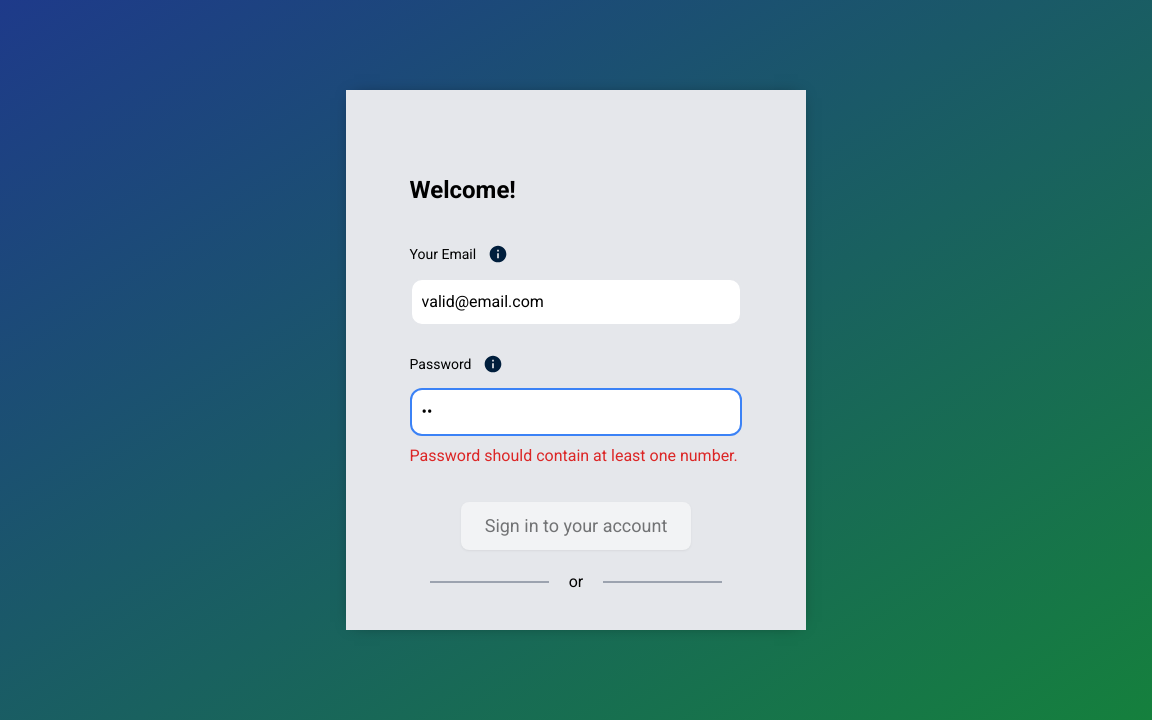
Scenario: React Social App › Login Page › Password Input › Add number to the input, it should return special character validation error
This screenshot has width=1152, height=720.
Type "1" into the password field. click: (577, 412)
box: [410, 388, 743, 436]
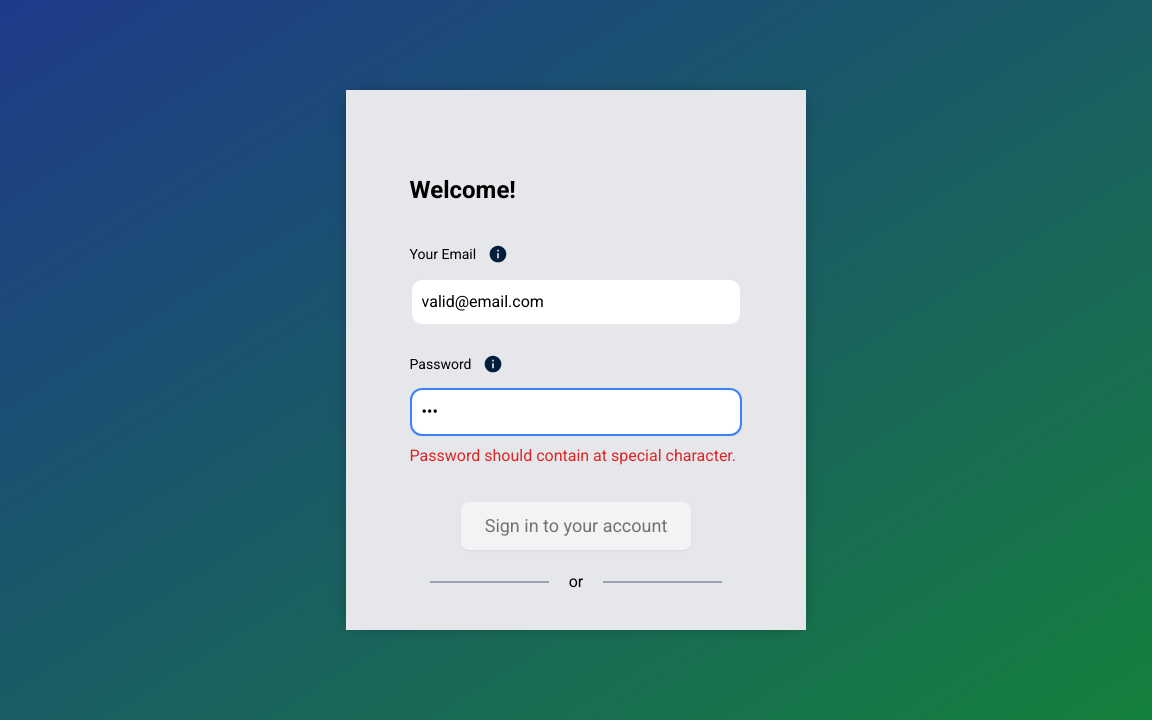
Now the text "Password should contain at special character." is shown, box [410, 446, 736, 465]
